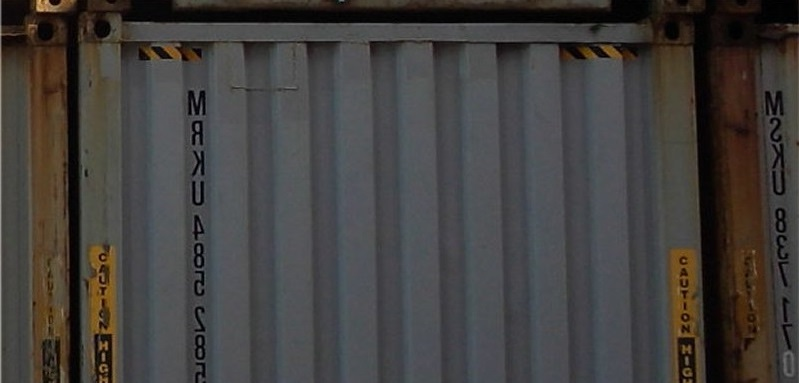container_no_door: (80, 10, 703, 383)
